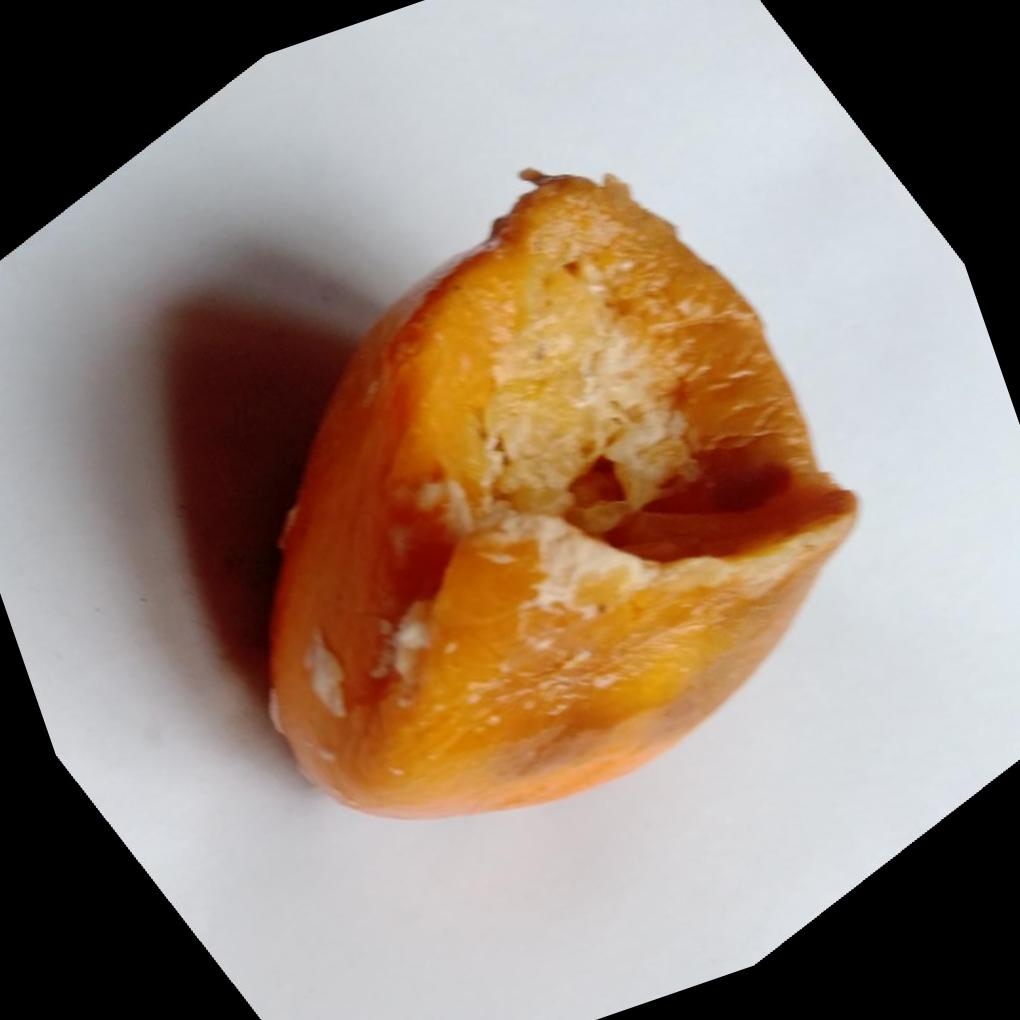FreshOrange: (262, 168, 859, 823)
